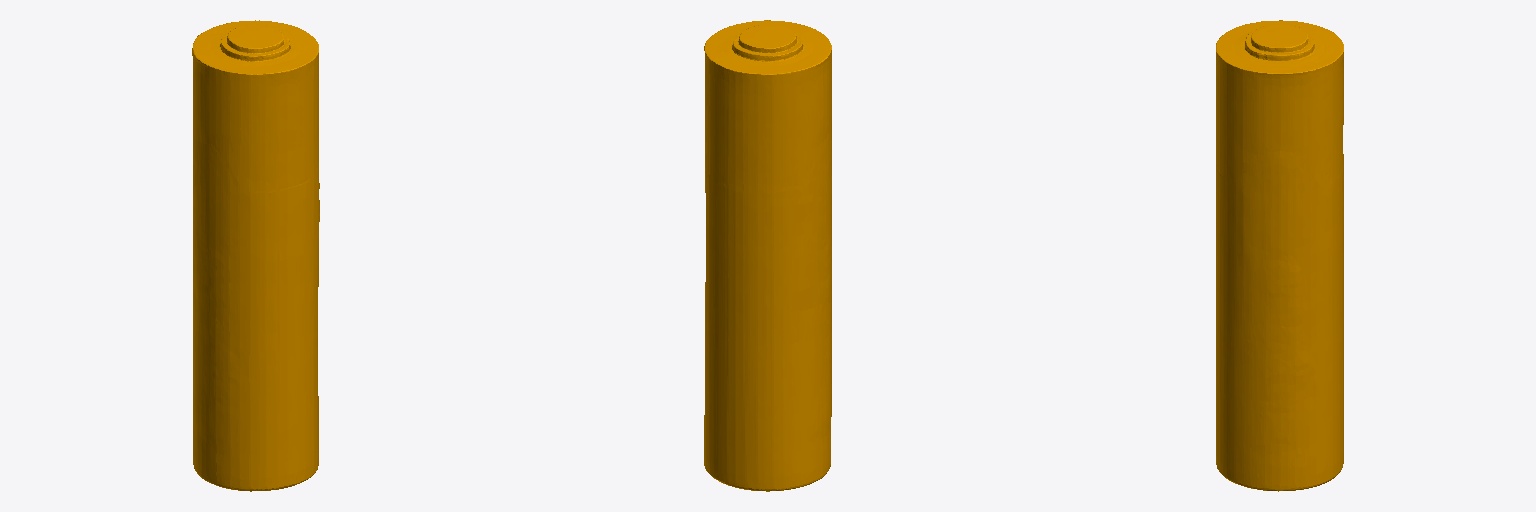
robot.urdf — sample:
<?xml version="1.0" ?>
<robot name="sample">
   <link name="sample">
      <visual>
         <origin xyz="0 0 0" rpy="1.5708 0.0 0.0"/>
         <geometry>
            <mesh filename="mesh/sample.obj" scale="1.0 1.0 1.0"/>
         </geometry>
      </visual>
      <collision>
         <origin xyz="0 0 0" rpy="1.5708 0.0 0.0"/>
         <geometry>
            <mesh filename="mesh/sample_collision.obj" scale="1.0 1.0 1.0"/>
         </geometry>
         <gazebo>
            <mu1>0.40</mu1>
            <mu2>0.30</mu2>
         </gazebo>
      </collision>
      <inertial>
         <mass value="0.0750"/>
         <origin xyz="0 0 0"/>
         <inertia ixx="1.0" ixy="0.0" ixz="0.0" iyy="1.0" iyz="0.0" izz="1.0"/>
      </inertial>
      <extra_info>
         <scale>0.070000</scale>
         <version>v0.1.7</version>
         <category>battery</category>
         <description>cylindrical battery with black top and silver body</description>
         <min_height>0.06</min_height>
         <max_height>0.08</max_height>
         <real_height>0.07</real_height>
         <min_mass>0.05</min_mass>
         <max_mass>0.1</max_mass>
         <color>silver</color>
         <rgba>[0.7, 0.7, 0.7, 1.0]</rgba>
         <generate_time>20260625093222</generate_time>
         <gs_model>mesh/sample_gs.ply</gs_model>
      </extra_info>
   </link>
   <custom_data>
      <quality>
         <MeshGeoChecker>YES</MeshGeoChecker>
         <ImageSegChecker>NO. Object is incomplete and distorted; missing parts and unnatural geometry.</ImageSegChecker>
         <ImageAestheticChecker>4.207986950874329</ImageAestheticChecker>
         <overall>NO</overall>
      </quality>
   </custom_data>
</robot>

--- Facts derived from the render (not from the file) ---
3 views of the same robot in one strip: view 1: azimuth 30°, elevation 25°; view 2: azimuth 150°, elevation 25°; view 3: azimuth 270°, elevation 25° (orthographic).
Model sample with 1 links and 0 joints (none), rooted at sample, posed all joints at 0.
Visible links, largest first — view 1: sample; view 2: sample; view 3: sample.
Boxes of the visible links, x1=… form: sample: x1=192, y1=20, x2=319, y2=491; sample: x1=704, y1=20, x2=831, y2=491; sample: x1=1216, y1=20, x2=1343, y2=491.
Bounding box of the posed robot: 0.0187 × 0.019 × 0.07 m (x, y, z).
Meshes: 1 distinct files referenced, 1 mesh visuals loaded (1 OBJ).
